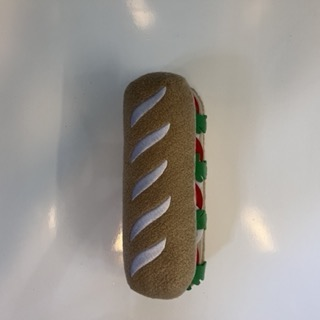sandwich: (123, 72, 205, 299)
